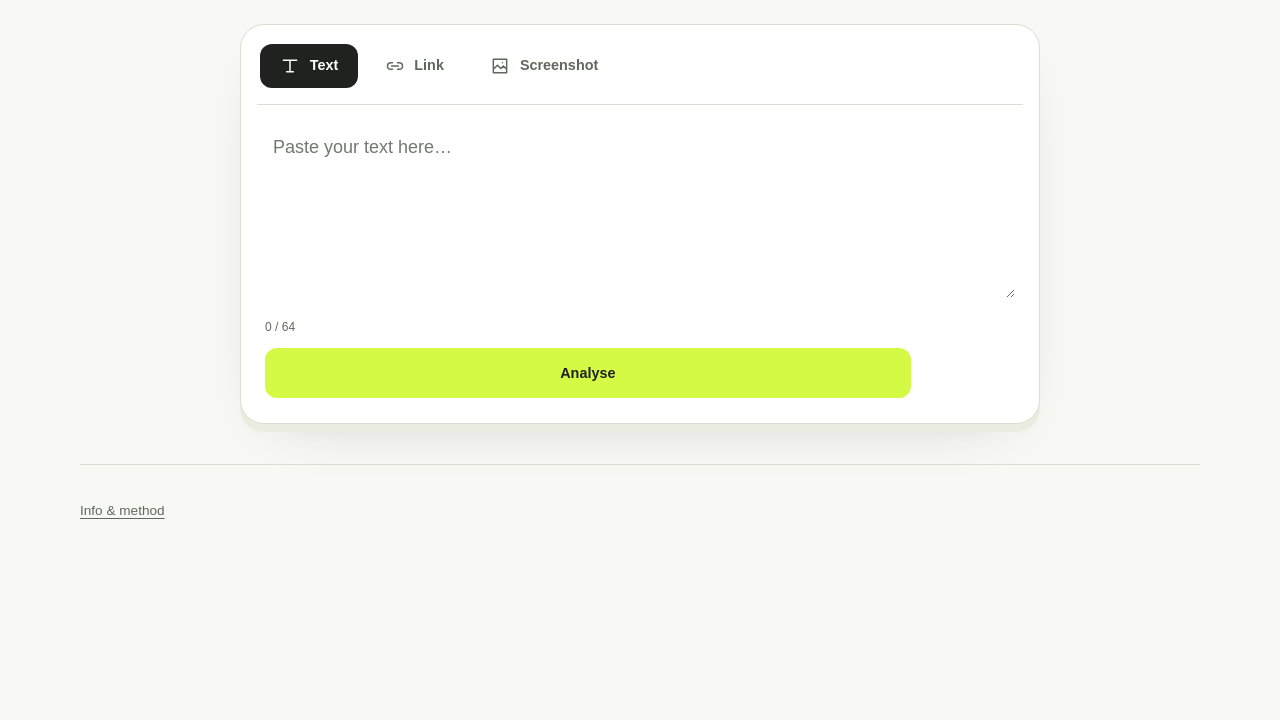
one-shot text flow › shows unavailable without a result, share or automatic retry in en
Type " Visible text 👋 " into the text box at (640, 212), box [265,125,1015,298]
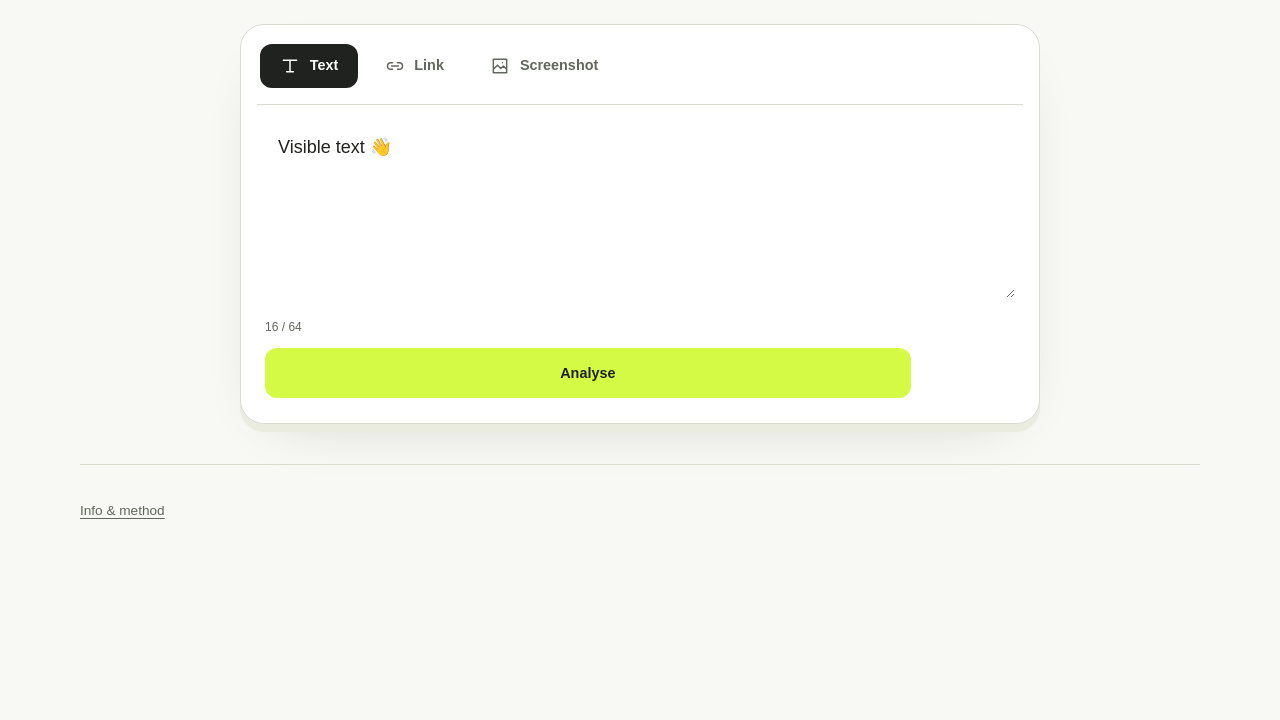
Click the button "Analyse" at (588, 373), box [265,348,911,398]
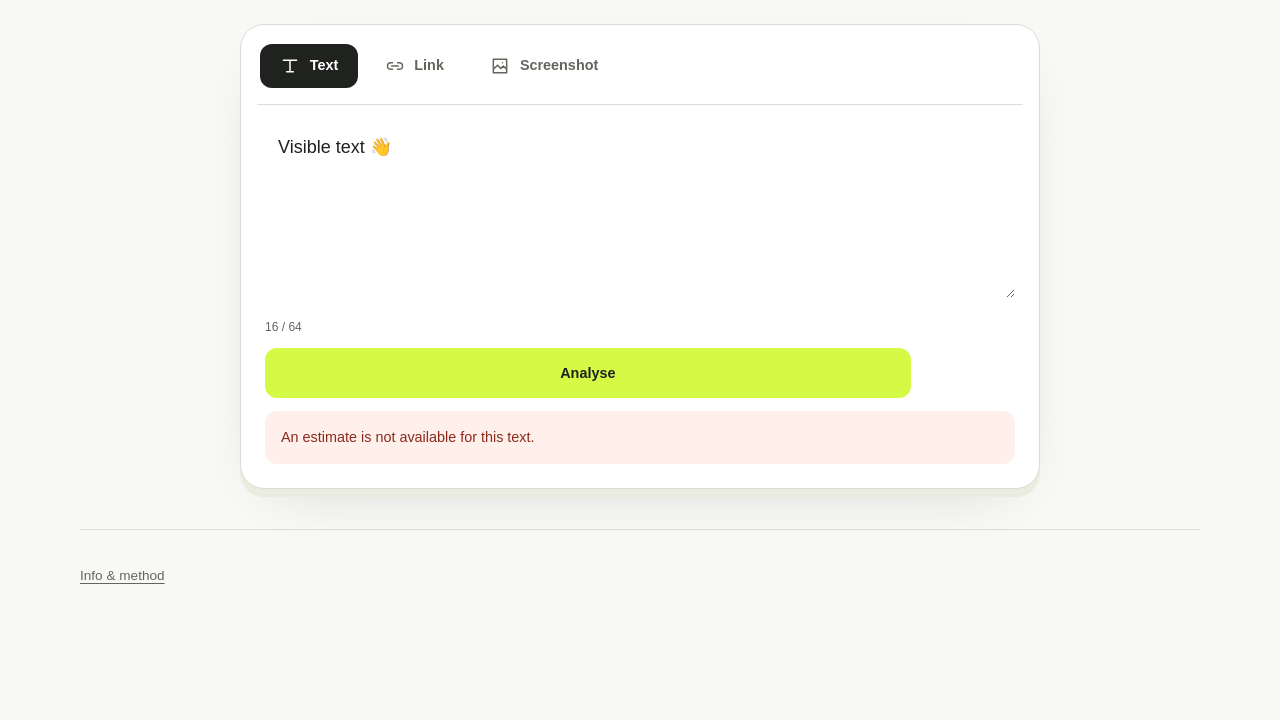
Expected: the message reads "An estimate is not available for this text.", [281,429,535,445]
